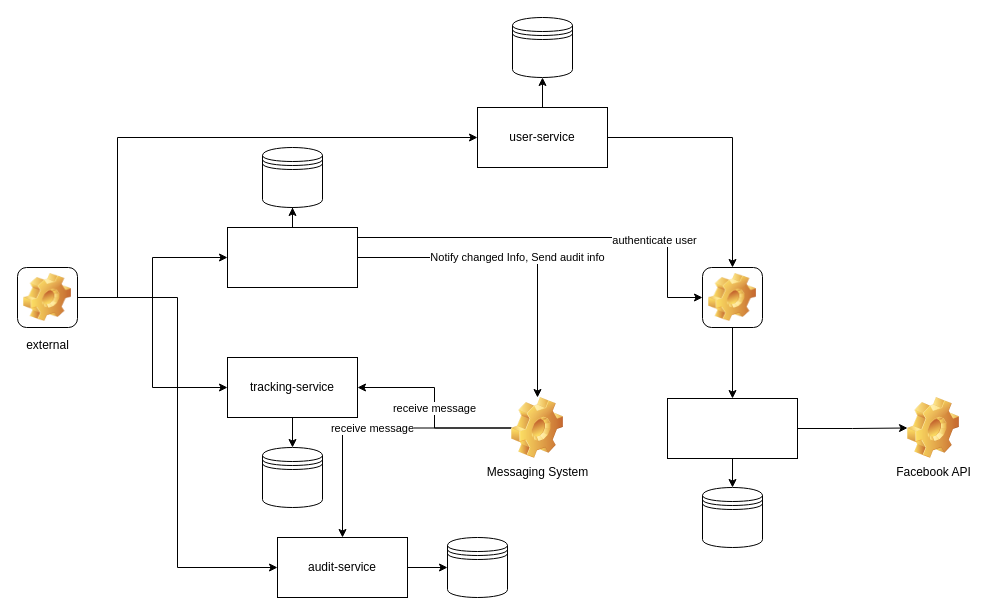
The diagram is 988 pixels wide and 615 high, and some of its shapes have lost their labels. Each missing label, with the centre of its shape:
"authentication-service" belongs at [732,428].
"internal" belongs at [732,297].
"product-order-service" belongs at [292,257].
